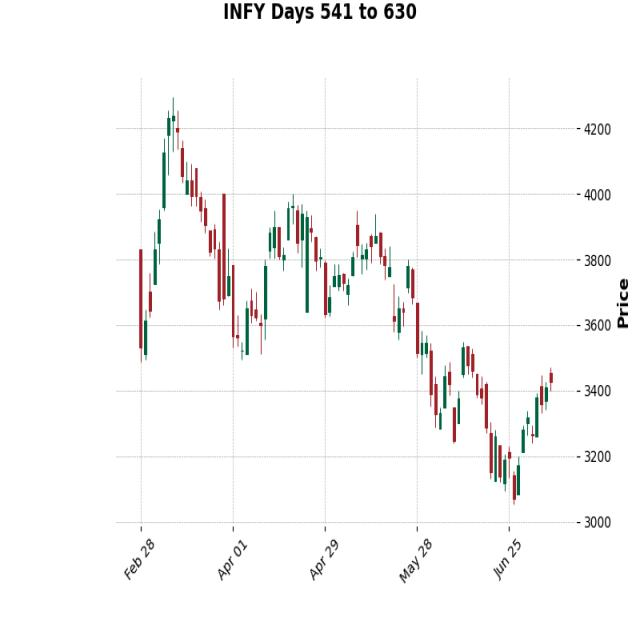Descending Triangle: (138, 79, 263, 375)
